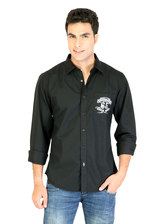clothoes: (28, 52, 139, 195)
